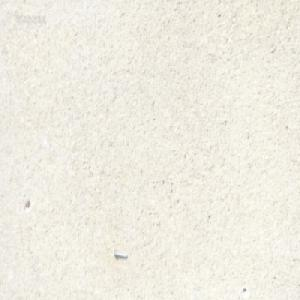Nail: (112, 249, 127, 258)
